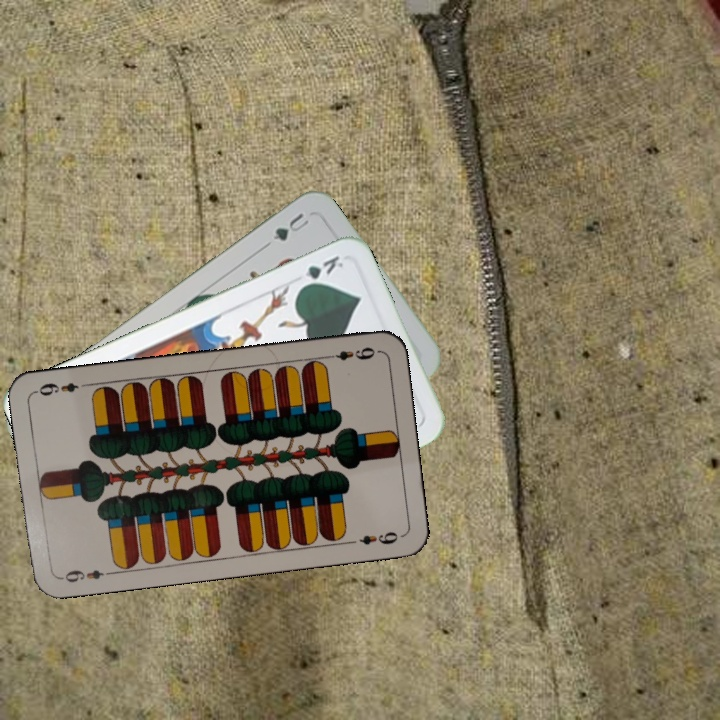E9: (56, 565, 115, 585), (321, 343, 377, 363)
GK: (295, 251, 346, 292)
GU: (261, 208, 312, 249)
